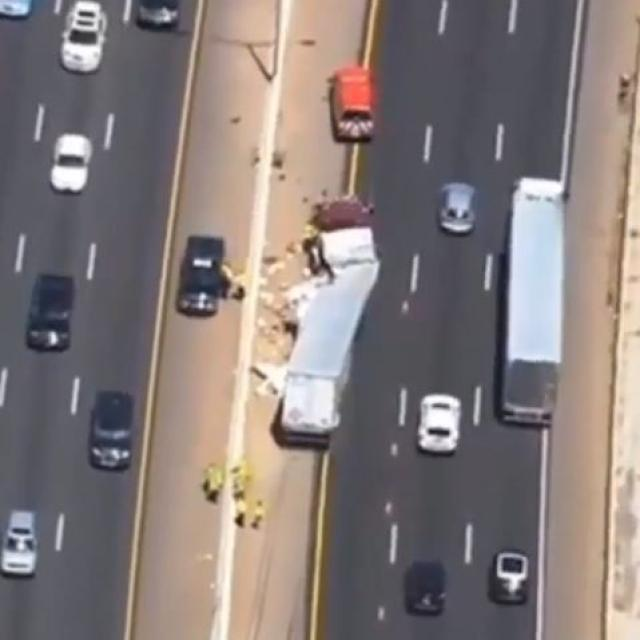traffic_incident: (258, 181, 386, 446)
